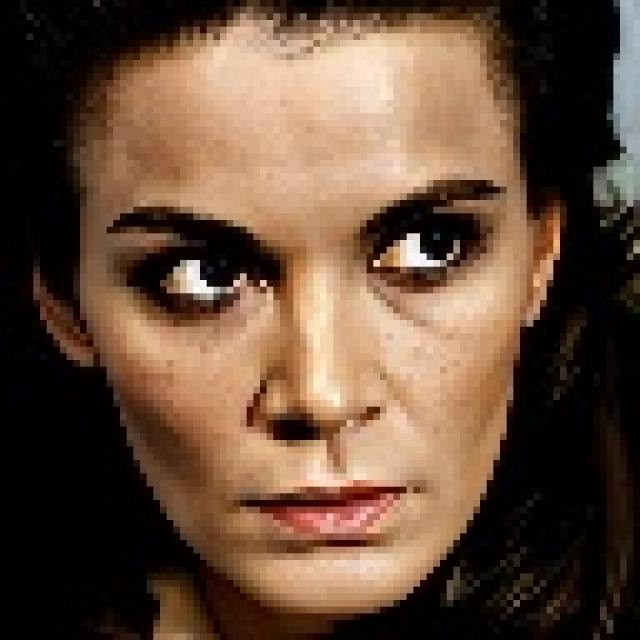angry: (55, 19, 541, 619)
